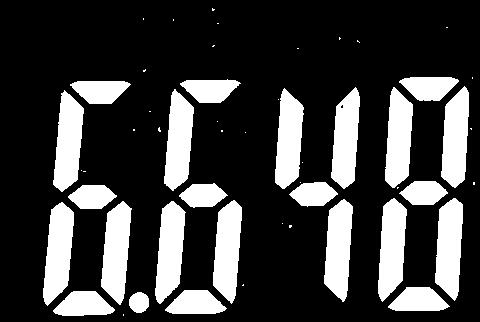4: (271, 85, 364, 306)
6: (39, 78, 133, 315), (152, 76, 243, 315)
8: (375, 73, 471, 311)
dot: (127, 290, 153, 316)
